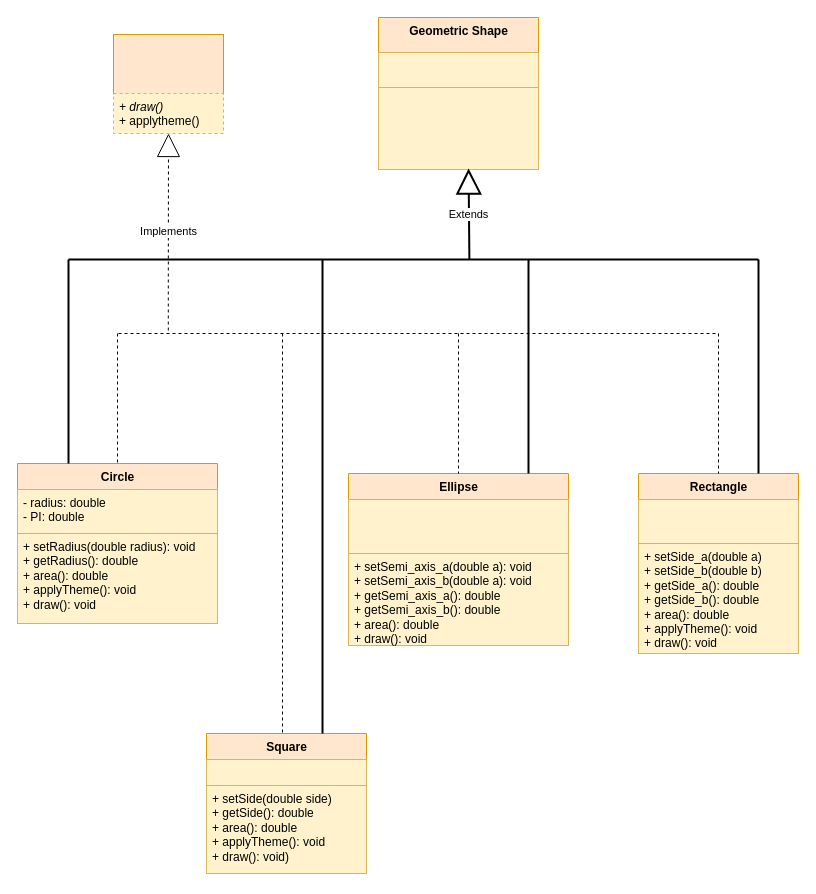
Some shapes in this 816 by 894 pixel diagram are drawn without their labels. The shapes that lost their labels are listed below. From the top down, each one's centre as x and y in pixels, then its label:
point (168, 64): «interface» Drawable
point (458, 70): - name: String
point (458, 128): + setName() + getName() + area()
point (458, 526): - semi_axis_a: double - semi_axis_b: double - PI: double
point (718, 521): - side_a: double - side_b: double
point (286, 772): - side: double
